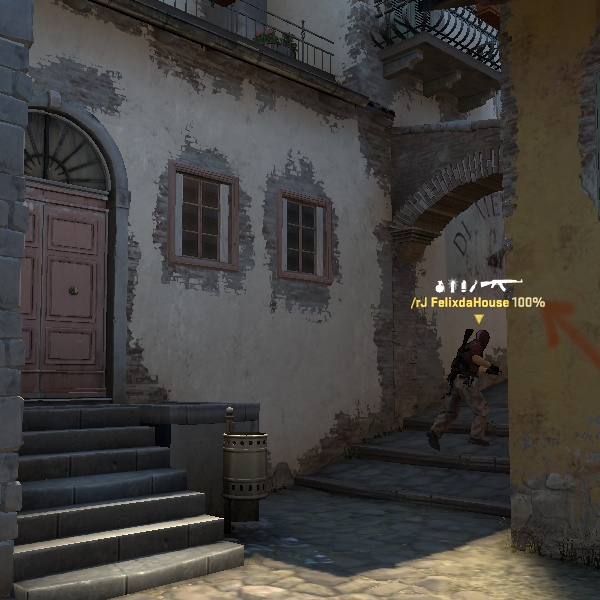t_body: (442, 324, 513, 448)
